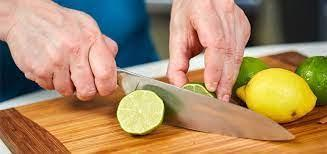lemon: (237, 67, 317, 124)
